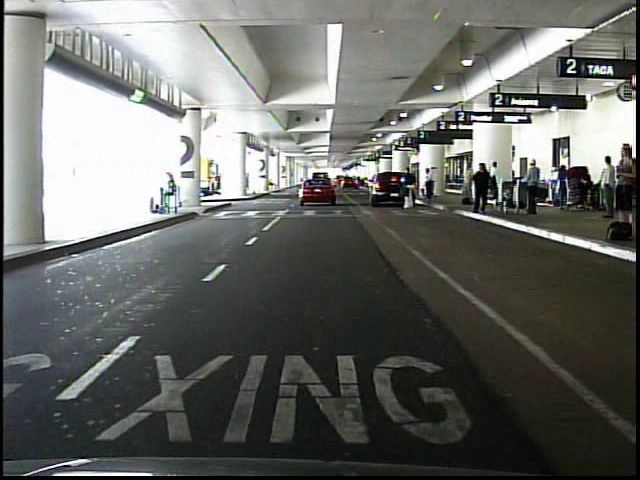person: (612, 145, 637, 223), (598, 157, 616, 219), (525, 158, 542, 217), (471, 160, 489, 213), (160, 172, 180, 219), (544, 167, 561, 205), (403, 167, 415, 213), (488, 161, 499, 202), (425, 168, 436, 202)
